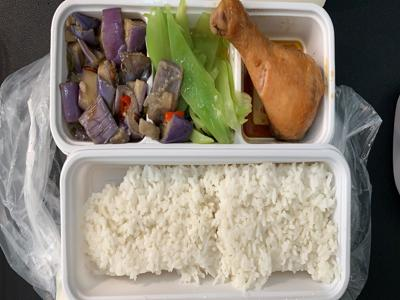csp: (149, 10, 239, 148)
jt: (213, 1, 331, 143)
rice: (79, 161, 339, 291)
sqz: (63, 8, 151, 145)
